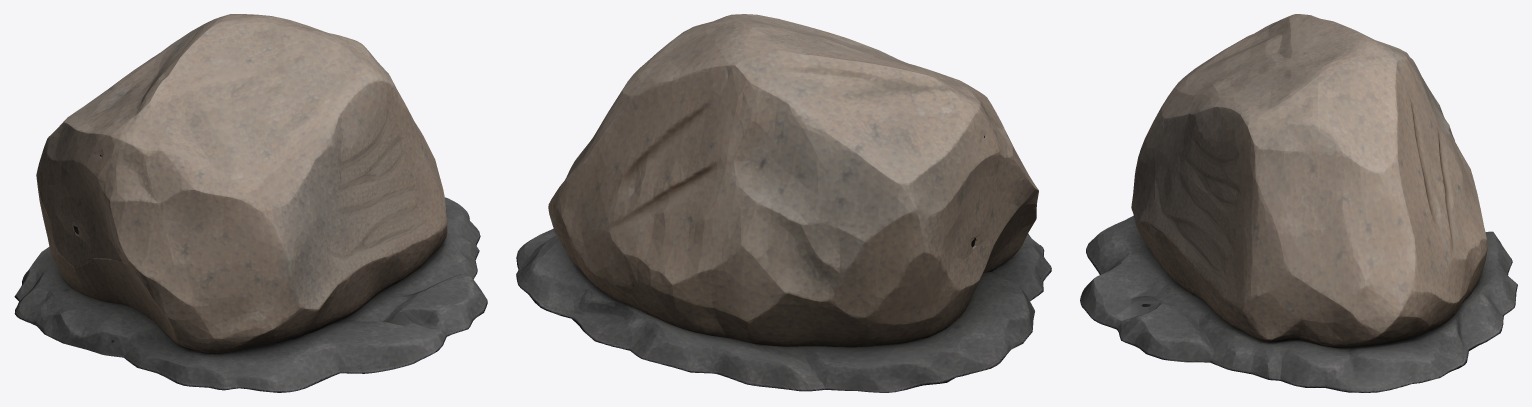
3 views of the same model, side by side, from view 1: azimuth 30°, elevation 25°; view 2: azimuth 150°, elevation 25°; view 3: azimuth 270°, elevation 25° (orthographic). The views are drawn at different scales.
Parts seen in each view (by area): view 1: world; view 2: world; view 3: world.
Part boxes in pixels (<box>): world: <box>14,14,487,392</box>; world: <box>516,14,1051,392</box>; world: <box>1080,14,1517,392</box>.
Bounding box in the file's own units: 3.56 × 1.92 × 3.09.
Materials: 1 (1 with a texture image).
